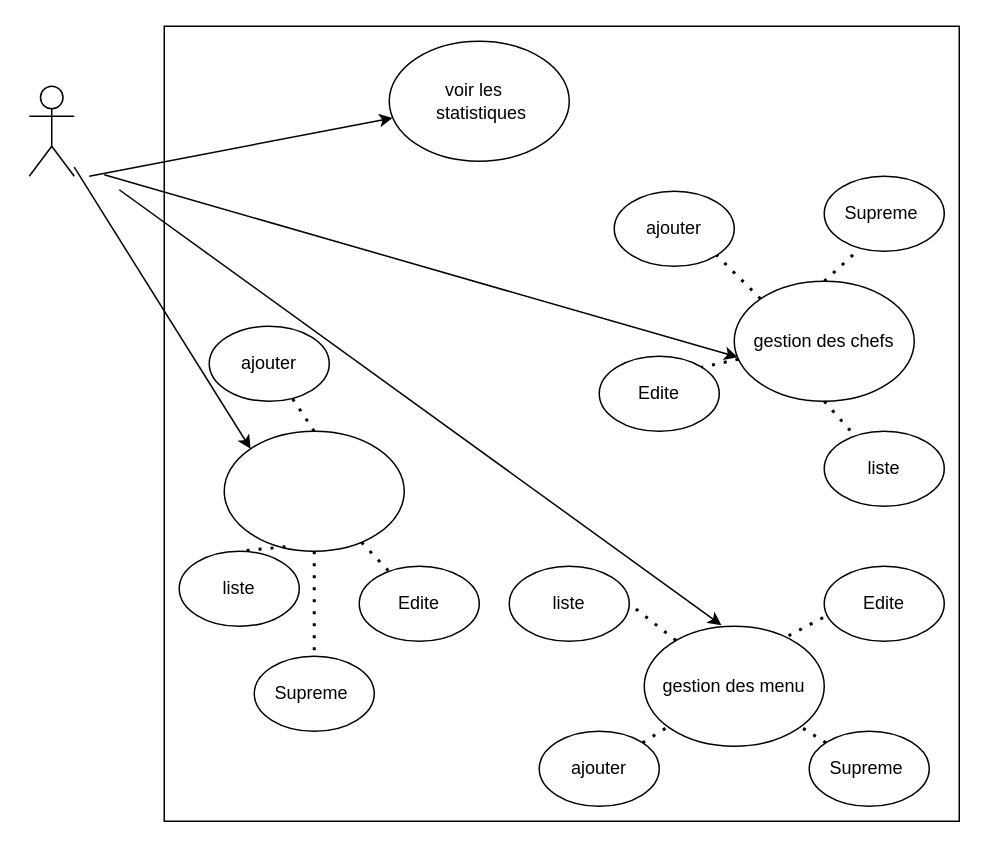
Image size: 986x848. Some labels were removed from this diagram. Each missing label, with the centre of its shape:
"Admin" belongs at (51,130).
"gestion des palte" belongs at (313,490).
